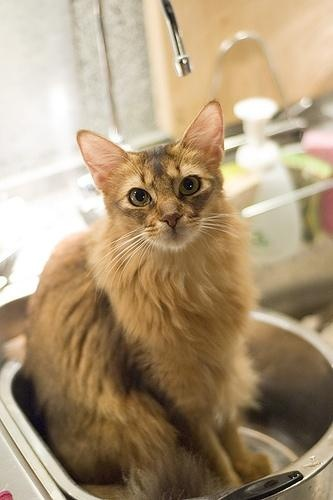cat: (23, 97, 273, 500)
